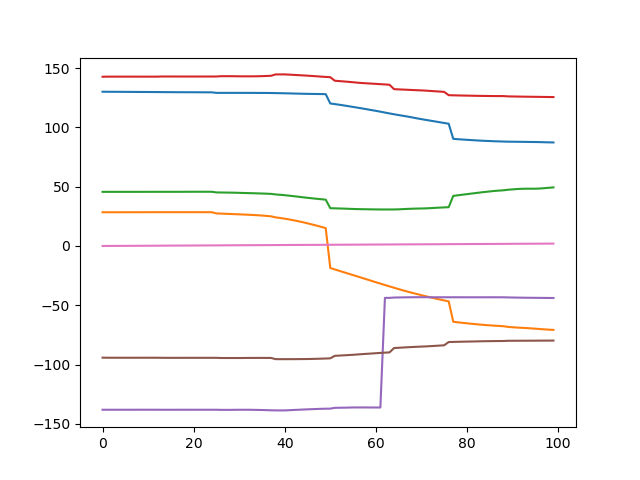Good_Bicep_Curl: (2, 1, 639, 480)
